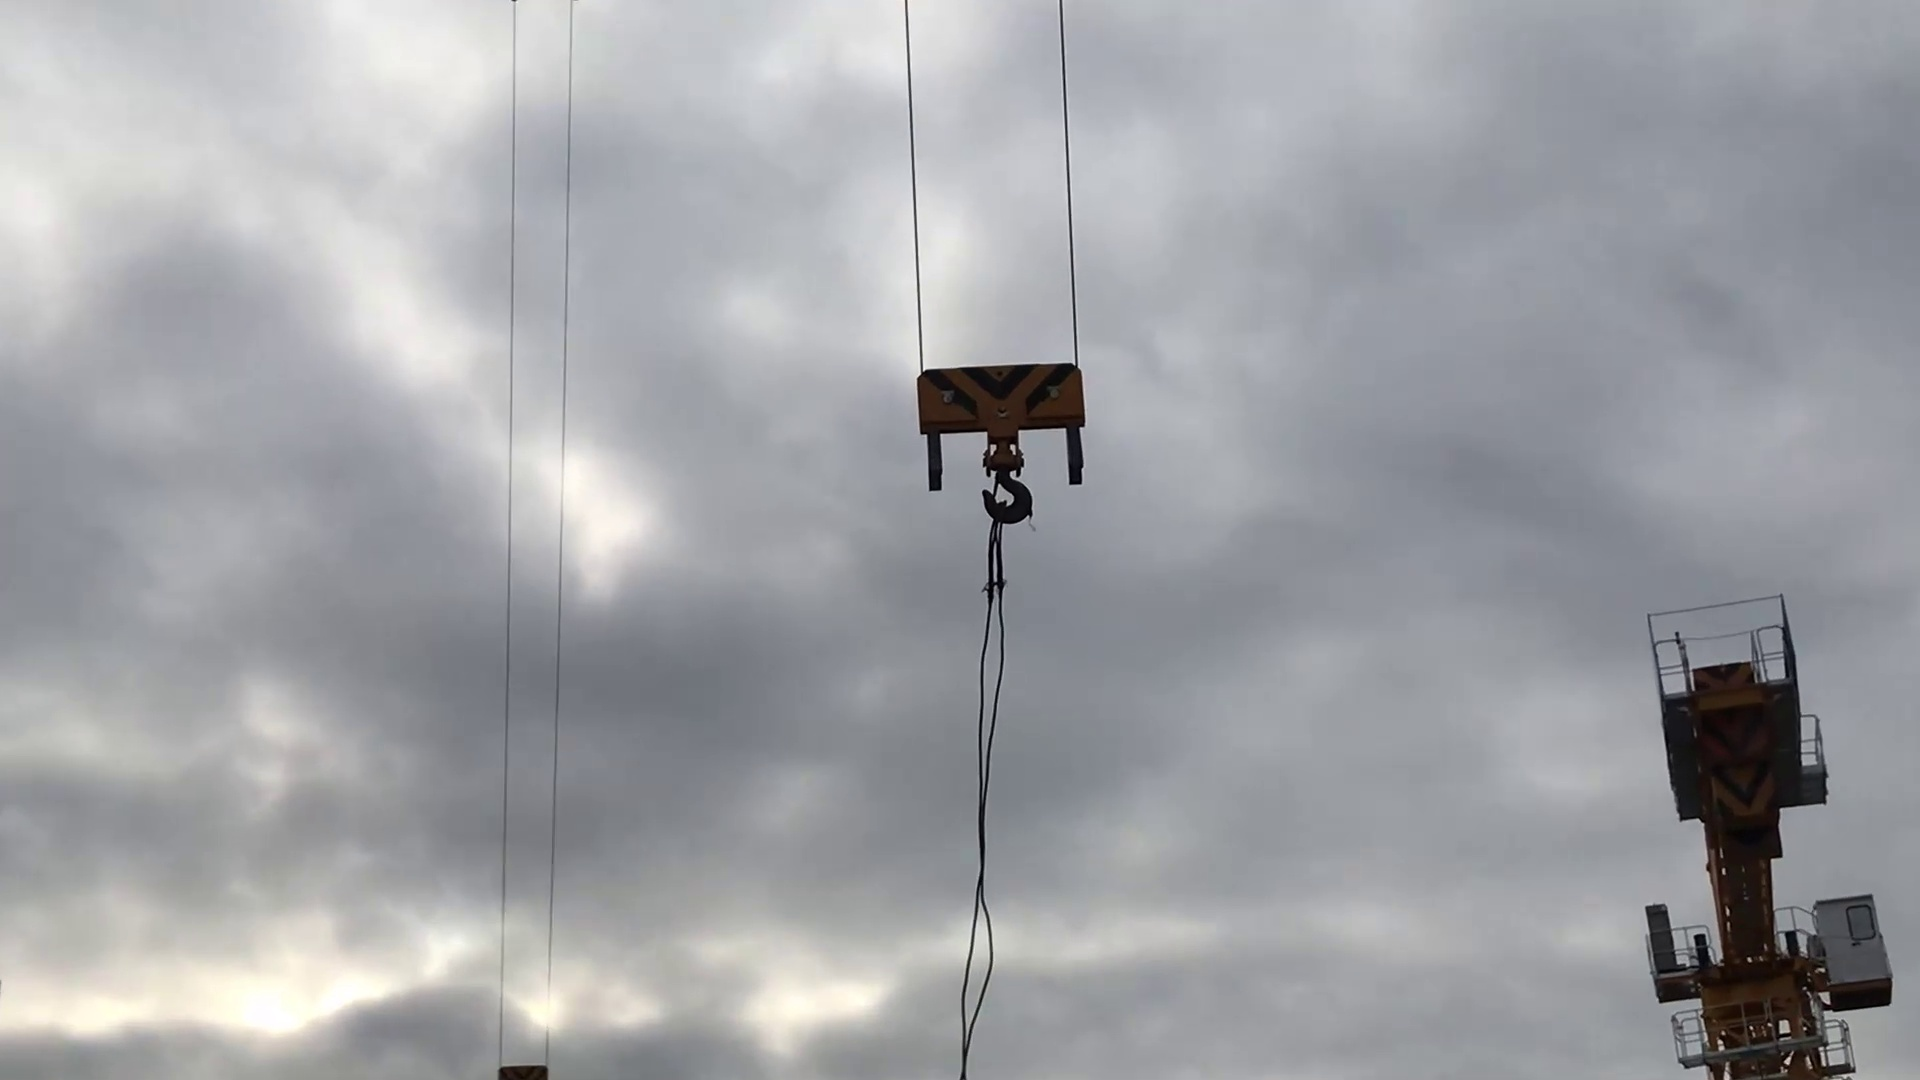hook: (893, 359, 1089, 524)
